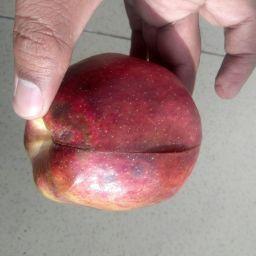apple: (7, 49, 215, 216)
